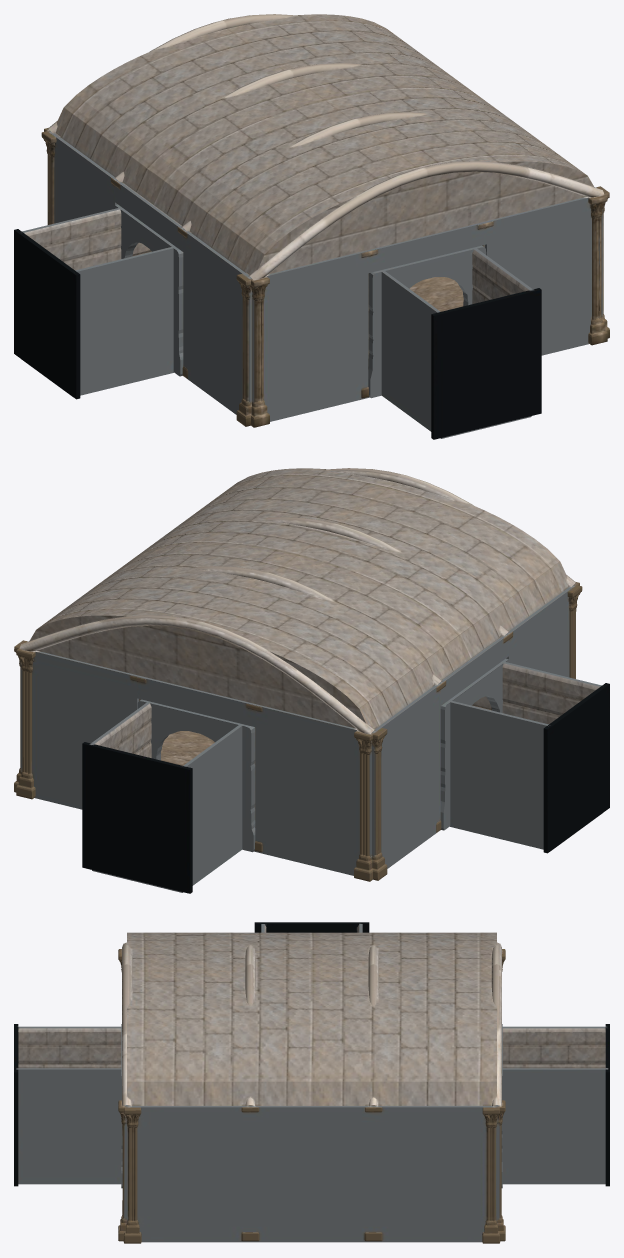
The model's file is room.glb.
3 renders of one model, top to bottom at view 1: azimuth 30°, elevation 25°; view 2: azimuth 150°, elevation 25°; view 3: azimuth 270°, elevation 25°, orthographic. The views are drawn at different scales.
Visible parts, largest first — view 1: TELLER-WEST; view 2: TELLER-WEST; view 3: TELLER-WEST.
Boxes of the visible parts, box(x1,y1,x2,y2) form: TELLER-WEST: box(14, 14, 609, 439); TELLER-WEST: box(14, 468, 609, 893); TELLER-WEST: box(14, 922, 609, 1243).
Size of the model in its own units: 13.3 by 5.95 by 16.12.
1 material, 1 textured.
